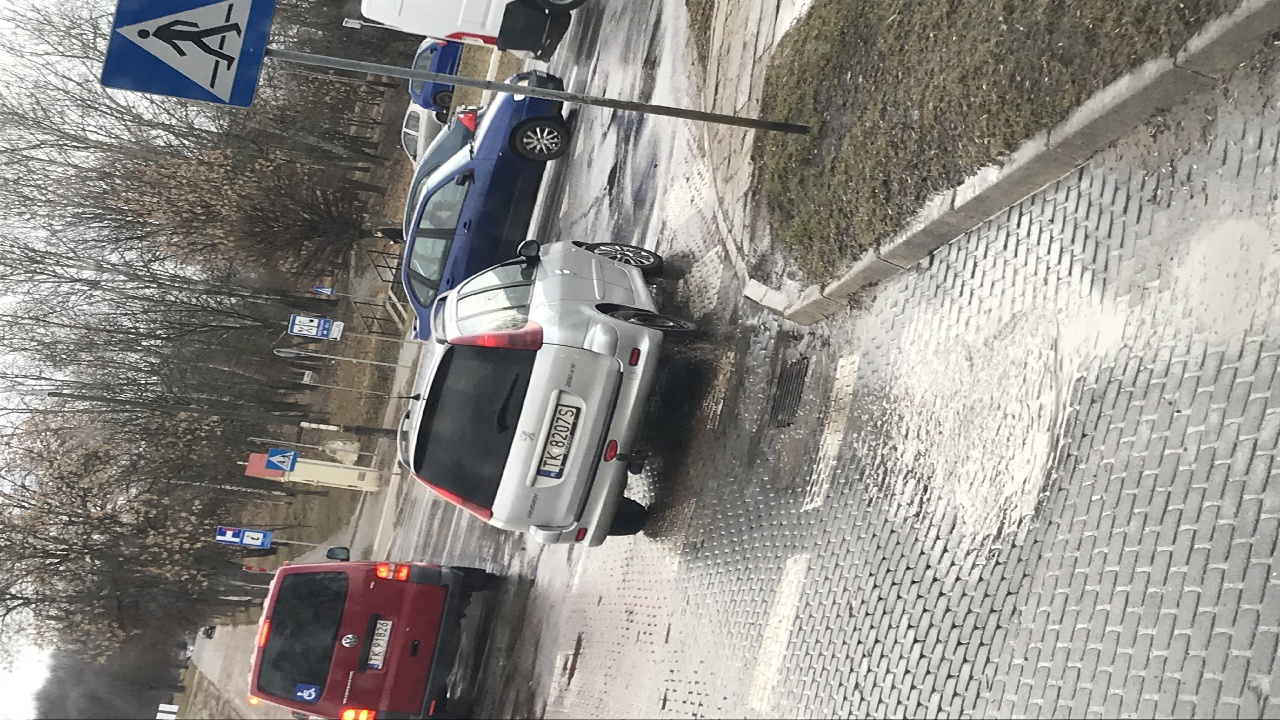D6: (101, 1, 280, 106)
